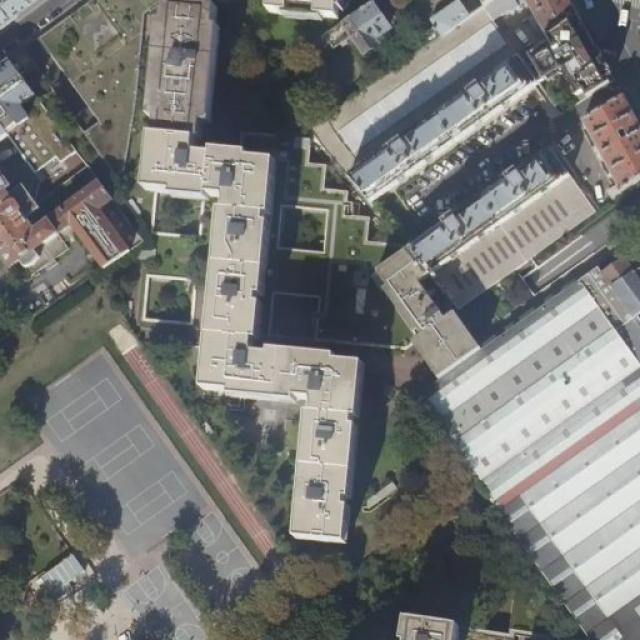immeuble: (148, 149, 360, 525), (381, 158, 596, 361), (312, 54, 582, 185), (34, 0, 164, 159), (0, 39, 72, 152), (150, 0, 216, 122), (523, 0, 621, 82), (57, 183, 135, 273), (588, 102, 640, 199), (0, 181, 52, 256), (318, 4, 398, 52)
usine: (439, 302, 640, 634)
